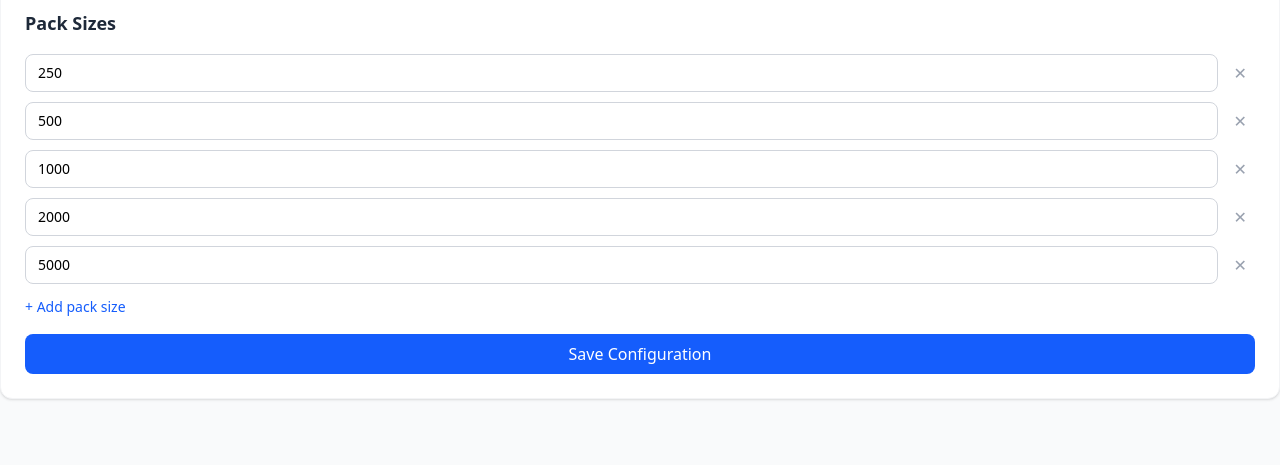
Test: allows adding a new pack size input
expect the number field showing "250" is shown: met, box [25,54,1218,92]
Click the button "+ Add pack size".
click(75, 307)  # box [25,297,126,317]
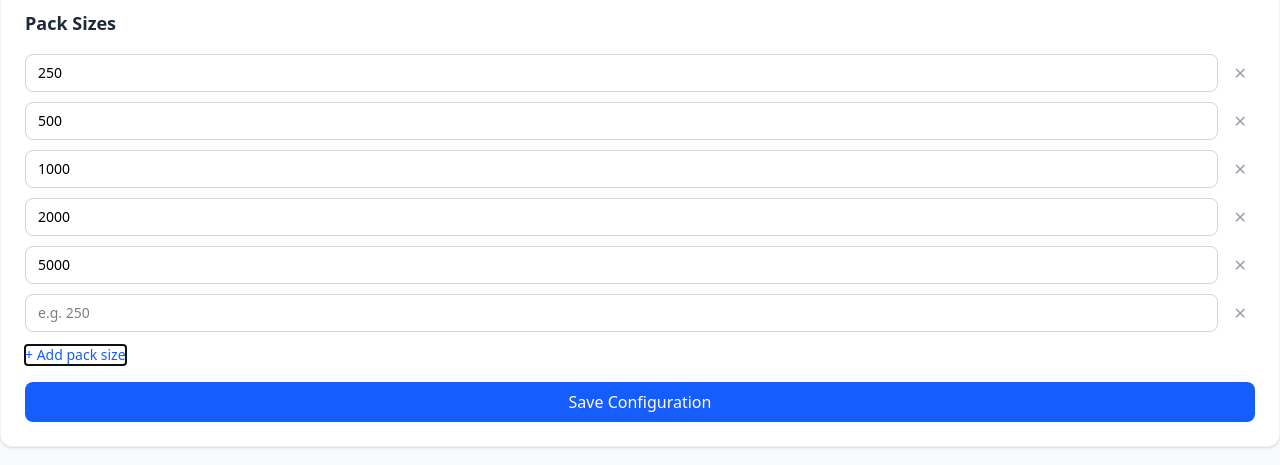
expect the number of number fields is 6: met, box [25,54,1218,92]; [25,102,1218,140]; [25,150,1218,188]; [25,198,1218,236]; [25,246,1218,284]; [25,294,1218,332]
